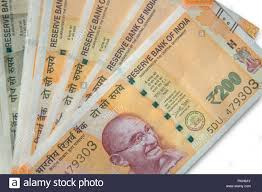twoHundred: (99, 45, 256, 145)
